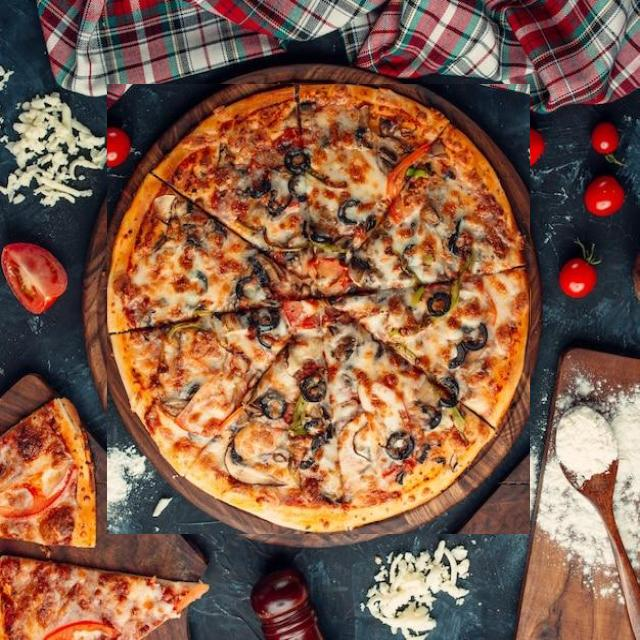olive: (358, 306, 400, 348), (222, 432, 252, 459), (310, 375, 338, 402), (326, 146, 353, 174), (367, 257, 390, 287), (302, 424, 326, 451), (172, 219, 189, 257), (351, 394, 375, 420), (150, 324, 172, 352), (306, 220, 334, 242), (275, 200, 299, 225), (178, 378, 198, 407), (187, 292, 210, 316), (195, 405, 217, 430), (330, 175, 348, 203), (383, 276, 402, 300), (171, 344, 189, 369), (267, 256, 297, 269), (409, 219, 425, 238), (241, 148, 258, 164), (429, 271, 441, 291), (260, 214, 273, 232), (437, 234, 451, 248), (374, 188, 390, 200), (270, 126, 282, 139), (438, 384, 450, 396)
pizza: (107, 84, 530, 534), (0, 555, 210, 640), (0, 396, 97, 546)
